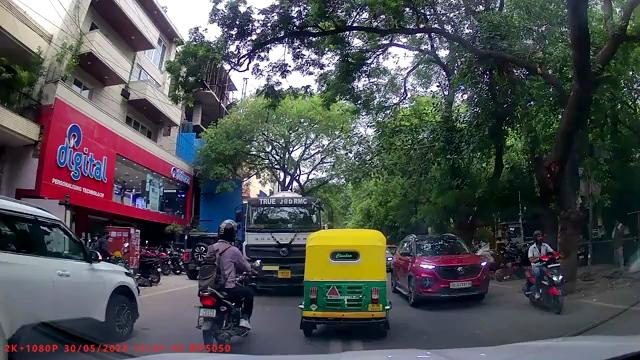motorcycle_with_helmet: (194, 218, 260, 344), (523, 229, 566, 315)
